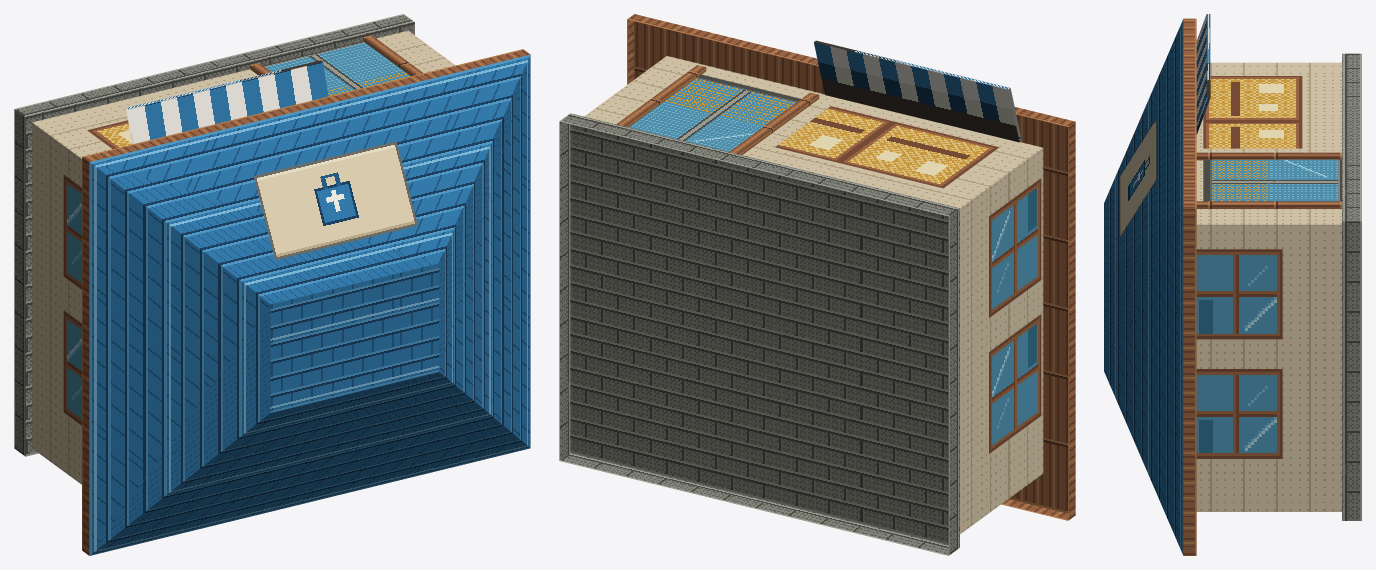
Rendered from poke_mart.obj.
3 renders of one model, left to right at view 1: azimuth 30°, elevation 25°; view 2: azimuth 150°, elevation 25°; view 3: azimuth 270°, elevation 25°, orthographic. The views are drawn at different scales.
Parts seen in each view (by area): view 1: poke_mart; view 2: poke_mart; view 3: poke_mart.
Part boxes in pixels (x1,y1,x2,y2): poke_mart: (14,14,530,555); poke_mart: (559,14,1075,555); poke_mart: (1104,14,1361,555).
Size of the model in its own units: 6.8 by 6.25 by 3.9.
8 materials, 8 textured.
